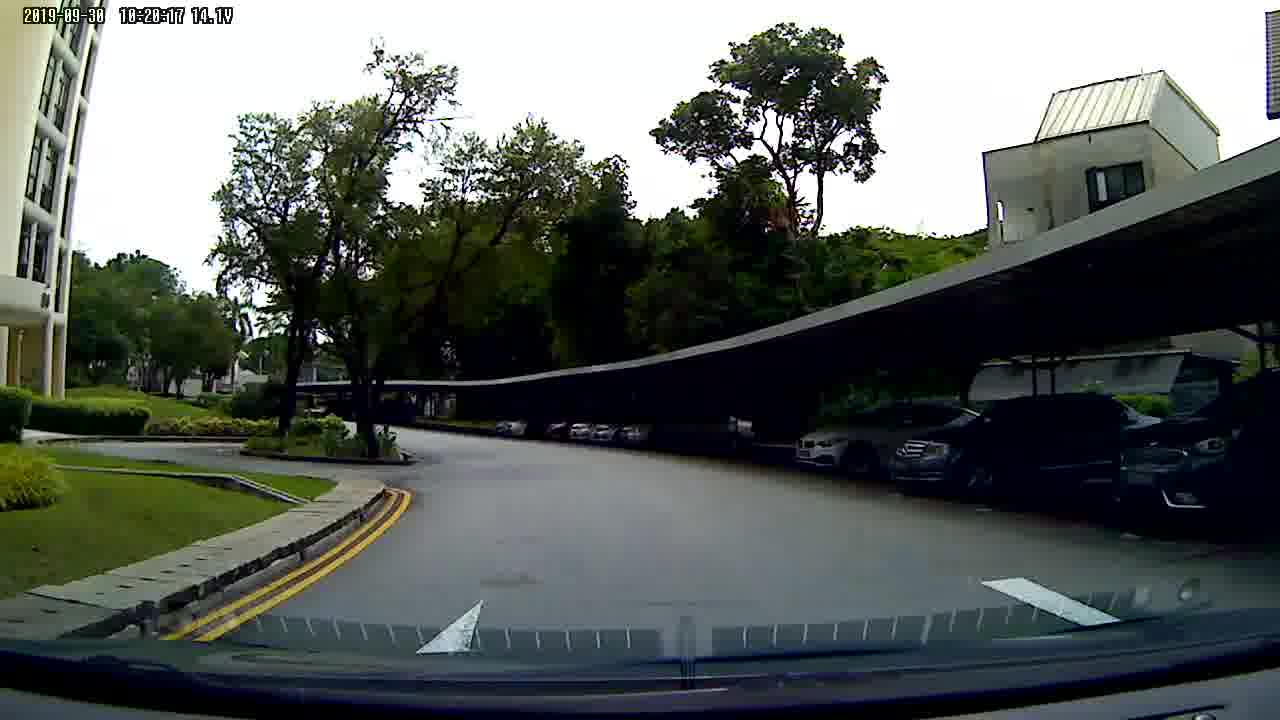car: (1112, 364, 1280, 555), (900, 394, 1111, 494), (791, 403, 892, 486)
